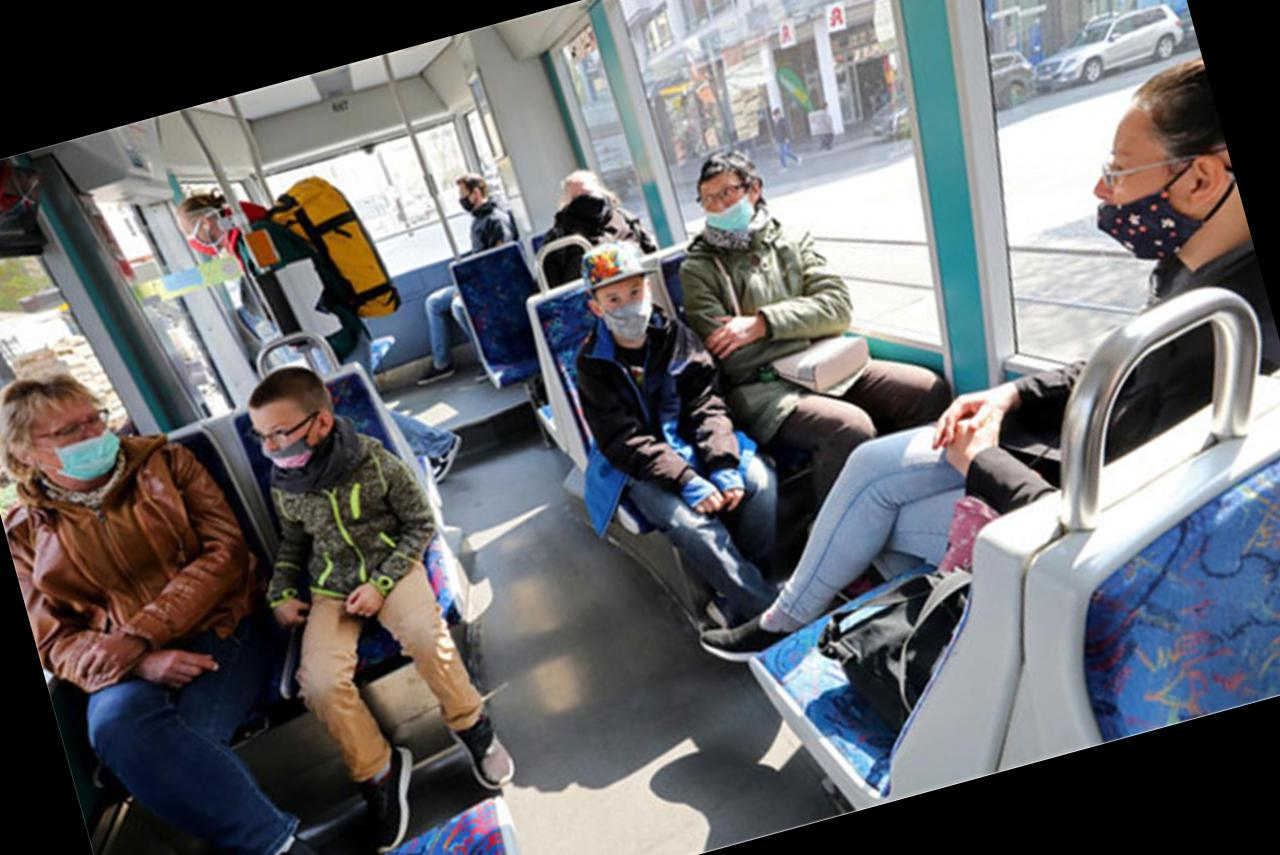mask_weared_incorrect: (1076, 116, 1208, 267), (249, 407, 324, 477)
with_mask: (38, 406, 137, 492), (596, 282, 663, 346), (694, 177, 757, 234), (169, 208, 225, 265), (557, 174, 613, 229), (450, 180, 485, 218)
